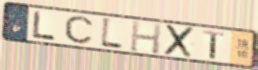C: (64, 15, 94, 45)
H: (129, 19, 164, 56)
L: (99, 16, 125, 51), (32, 10, 59, 41)
T: (202, 29, 226, 60)
X: (163, 24, 196, 60)
